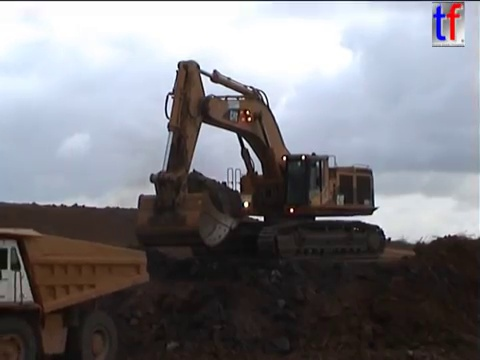excavator: (132, 57, 388, 268)
truck: (1, 224, 152, 360)
